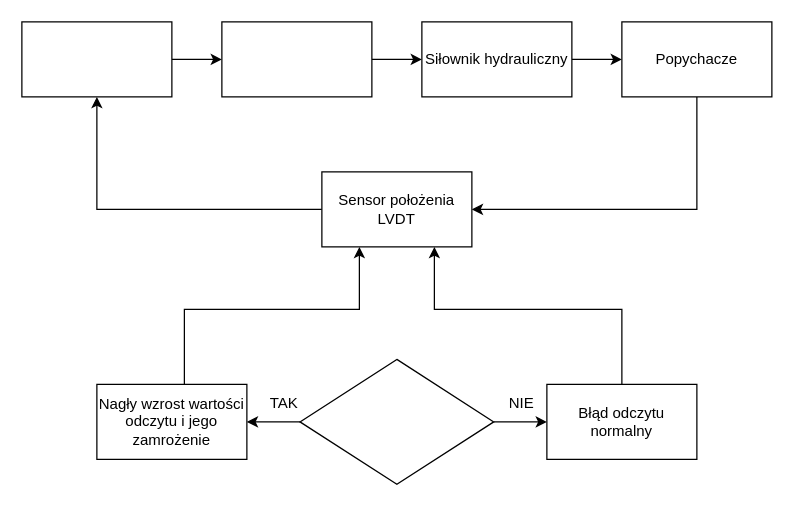
This 794x506 diagram has some shape labels left out. Each missing label, with the centre of its shape:
Awaria kontrolera VG: point 396,421
Kontroler VG: point 96,59
Serwozawór czterodrożny: point 296,59
